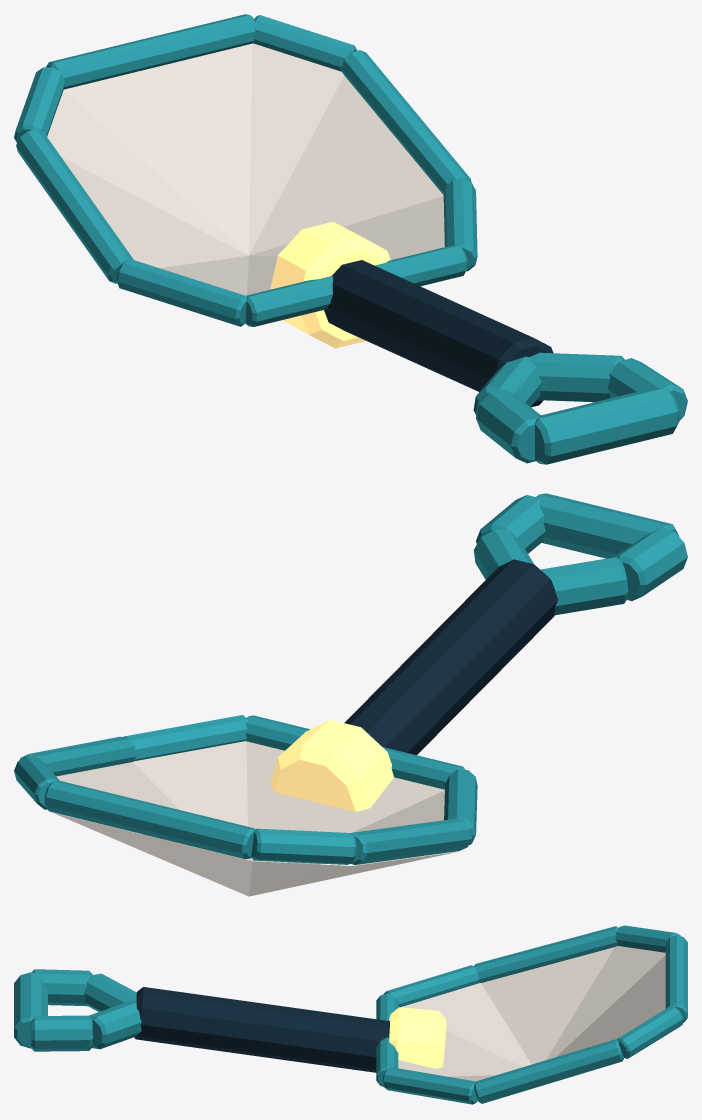
The model's file is pala.glb.
3 views of the same model, one above another, from view 1: azimuth 30°, elevation 25°; view 2: azimuth 150°, elevation 25°; view 3: azimuth 270°, elevation 25° (orthographic). The views are drawn at different scales.
Visible parts, largest first — view 1: Cazo, Asta, _MeshInstance3D_10, _MeshInstance3D_5, Collar, _MeshInstance3D_7, _MeshInstance3D_3, Canto, _MeshInstance3D_8, _MeshInstance3D_12, _MeshInstance3D_9, _MeshInstance3D_4 (+4 smaller); view 2: Cazo, Asta, Collar, _MeshInstance3D_5, _MeshInstance3D_10, _MeshInstance3D_7, AgarreD, _MeshInstance3D_6, _MeshInstance3D_9, Canto, _MeshInstance3D_2, _MeshInstance3D_3 (+4 smaller); view 3: Cazo, Asta, _MeshInstance3D_3, _MeshInstance3D_7, Collar, _MeshInstance3D_2, _MeshInstance3D_11, _MeshInstance3D_10, _MeshInstance3D_12, _MeshInstance3D_8, _MeshInstance3D_5, _MeshInstance3D_4 (+4 smaller).
Part boxes in pixels (x1=…): Cazo: x1=47, y1=43, x2=444, y2=295; Asta: x1=324, y1=260, x2=553, y2=407; _MeshInstance3D_10: x1=534, y1=387, x2=679, y2=464; _MeshInstance3D_5: x1=46, y1=14, x2=255, y2=89; Collar: x1=270, y1=222, x2=390, y2=348; _MeshInstance3D_7: x1=16, y1=129, x2=133, y2=283; _MeshInstance3D_3: x1=341, y1=50, x2=471, y2=194; Canto: x1=245, y1=245, x2=467, y2=326; _MeshInstance3D_8: x1=116, y1=258, x2=246, y2=326; _MeshInstance3D_12: x1=529, y1=352, x2=624, y2=402; _MeshInstance3D_9: x1=476, y1=389, x2=540, y2=463; _MeshInstance3D_4: x1=253, y1=15, x2=356, y2=71; Cazo: x1=52, y1=741, x2=457, y2=896; Asta: x1=344, y1=559, x2=557, y2=755; Collar: x1=270, y1=719, x2=393, y2=811; _MeshInstance3D_5: x1=44, y1=780, x2=255, y2=859; _MeshInstance3D_10: x1=536, y1=493, x2=679, y2=558; _MeshInstance3D_7: x1=351, y1=818, x2=471, y2=864; AgarreD: x1=540, y1=557, x2=628, y2=615; _MeshInstance3D_6: x1=251, y1=828, x2=356, y2=864; _MeshInstance3D_9: x1=613, y1=527, x2=687, y2=601; Canto: x1=245, y1=715, x2=464, y2=789; _MeshInstance3D_2: x1=123, y1=715, x2=247, y2=761; _MeshInstance3D_3: x1=20, y1=736, x2=136, y2=776; Cazo: x1=398, y1=946, x2=665, y2=1081; Asta: x1=134, y1=987, x2=389, y2=1072; _MeshInstance3D_3: x1=474, y1=1039, x2=623, y2=1103; _MeshInstance3D_7: x1=474, y1=926, x2=618, y2=982; Collar: x1=389, y1=1007, x2=446, y2=1068; _MeshInstance3D_2: x1=382, y1=1067, x2=477, y2=1104; _MeshInstance3D_11: x1=30, y1=1015, x2=92, y2=1051; _MeshInstance3D_10: x1=14, y1=972, x2=47, y2=1048; _MeshInstance3D_12: x1=89, y1=1000, x2=141, y2=1049; _MeshInstance3D_8: x1=384, y1=965, x2=479, y2=1007; _MeshInstance3D_5: x1=665, y1=935, x2=687, y2=1022; _MeshInstance3D_4: x1=616, y1=1006, x2=682, y2=1058.
Size of the model in its own units: 0.5416 by 0.2346 by 1.21.
